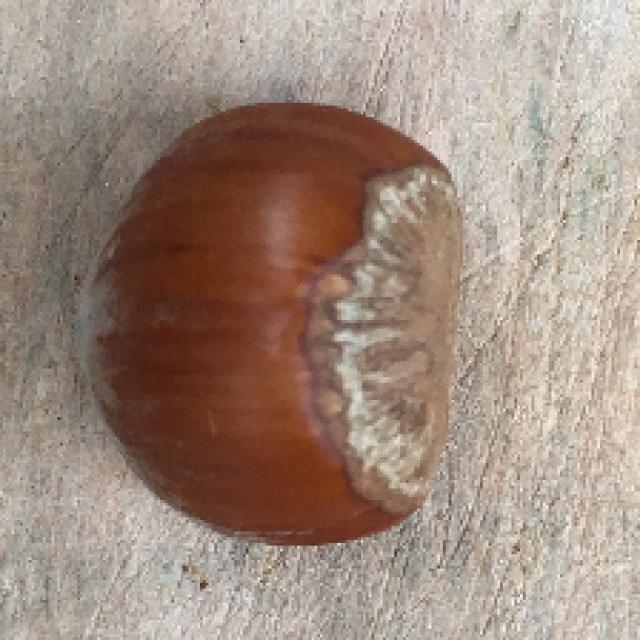qualityHazelnut: (81, 95, 470, 555)
